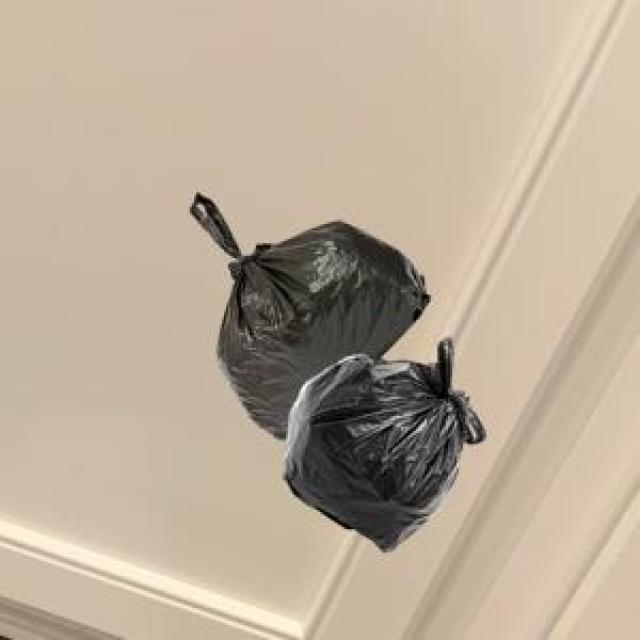waste: (191, 194, 485, 549)
